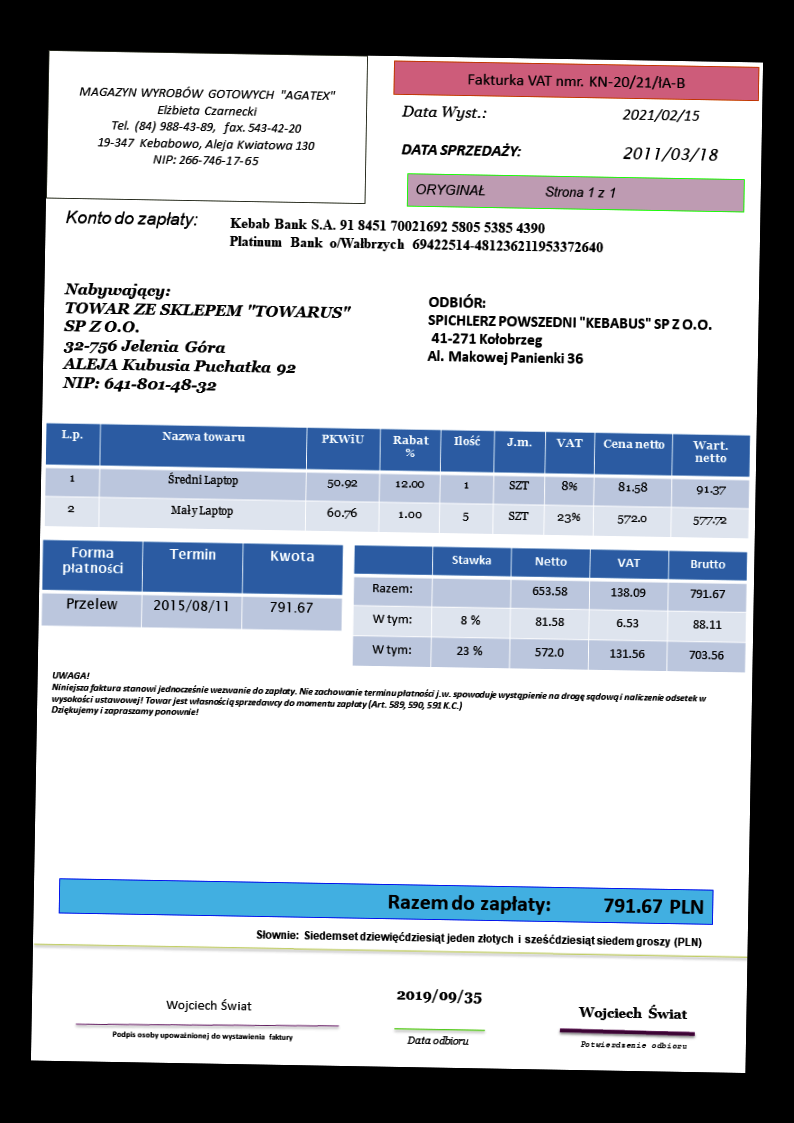Table: (42, 419, 751, 540), (349, 545, 749, 675), (40, 538, 344, 634)
TextBox: (49, 668, 709, 728), (60, 280, 352, 400), (424, 291, 718, 370), (74, 84, 340, 170), (225, 212, 606, 259), (251, 924, 705, 951), (382, 888, 706, 919), (462, 69, 689, 92), (413, 179, 622, 202), (60, 206, 201, 229), (398, 138, 521, 163), (109, 1028, 297, 1044), (572, 1001, 692, 1024), (620, 141, 721, 164), (160, 993, 254, 1015), (622, 101, 701, 127), (398, 101, 491, 123), (392, 985, 486, 1006), (577, 1037, 689, 1052), (405, 1030, 471, 1048)
